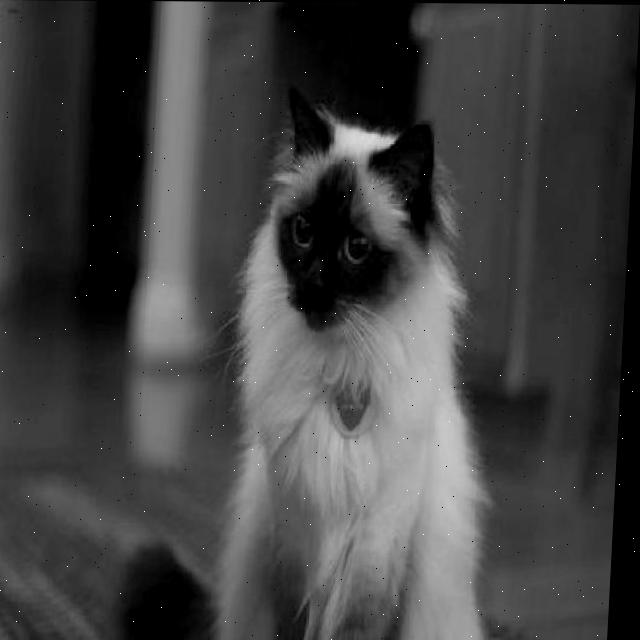Cat: (119, 76, 513, 640)
